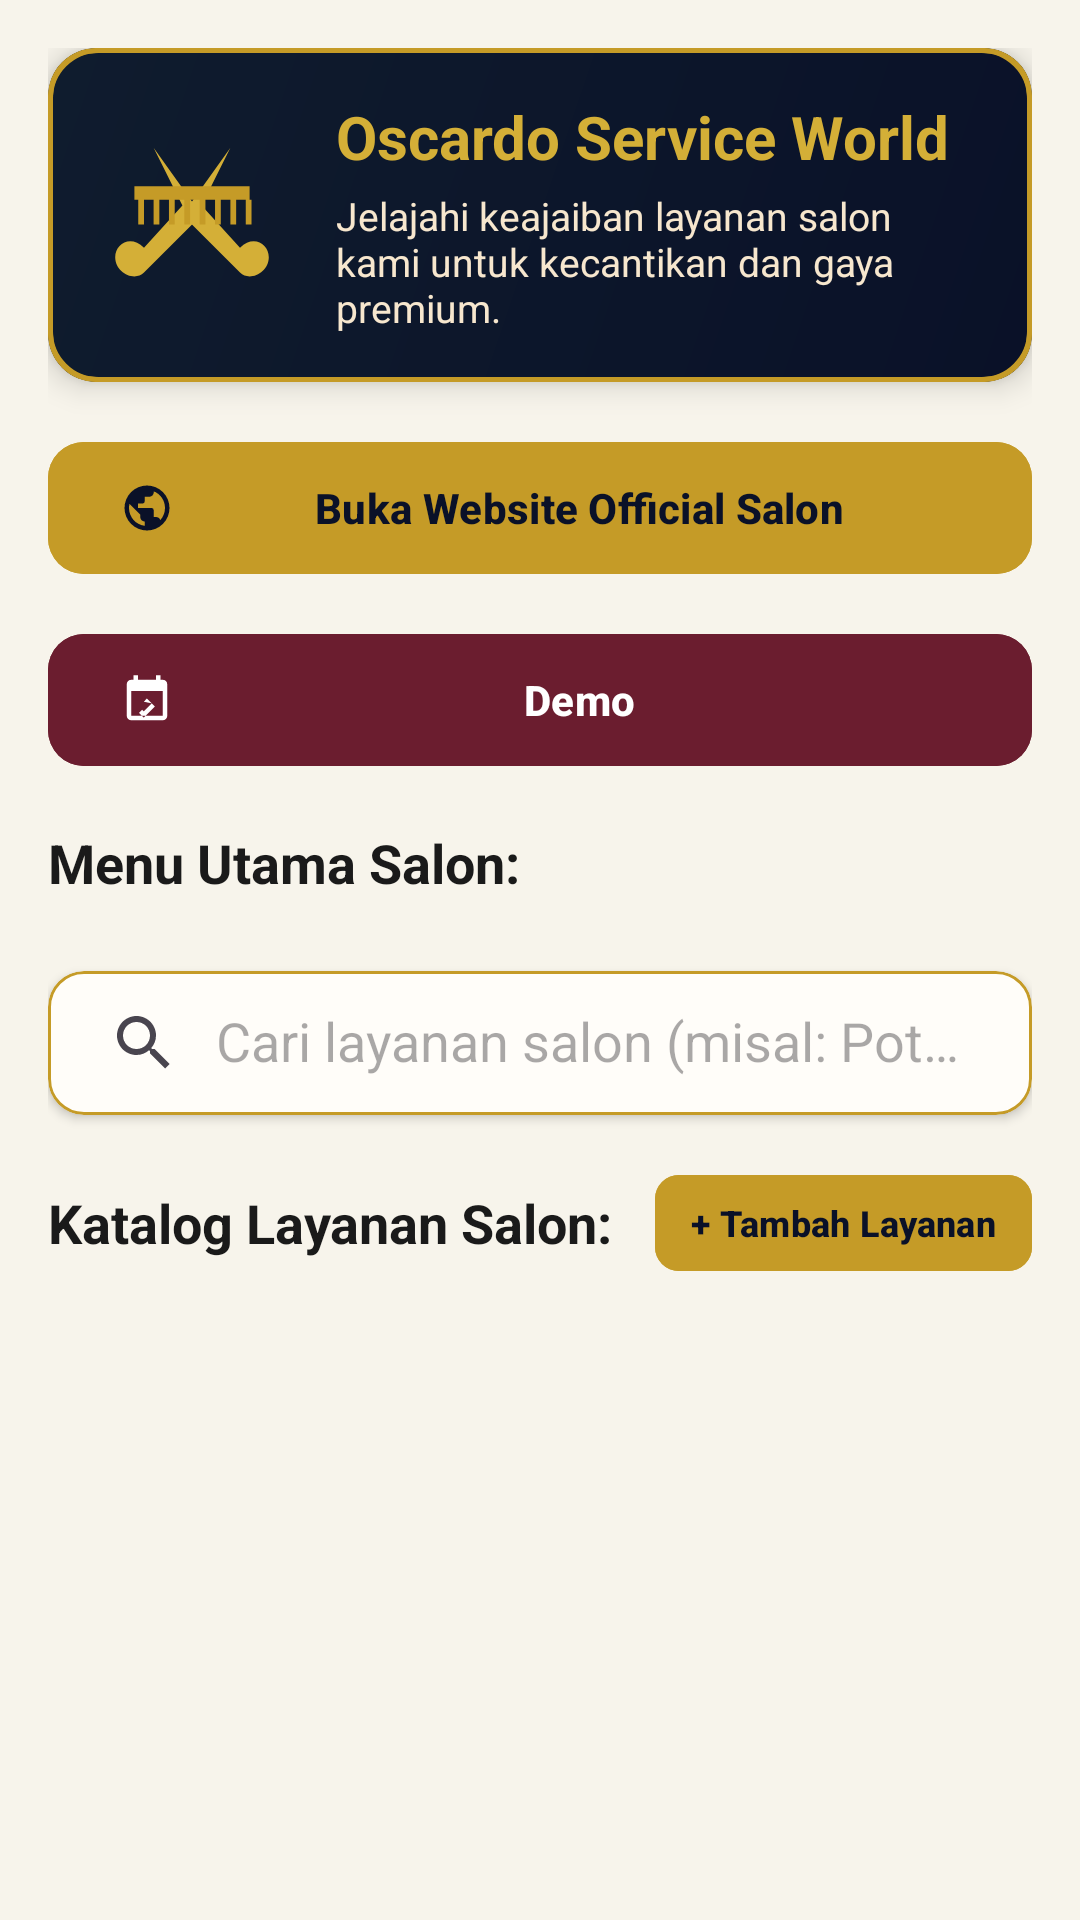

Icons on this 1080px x 1920px Android screen, each with its box as [x1=x1, y1=y1, x2=x2, y2=y2]:
salon scissors comb: [x1=115, y1=149, x2=269, y2=277]
